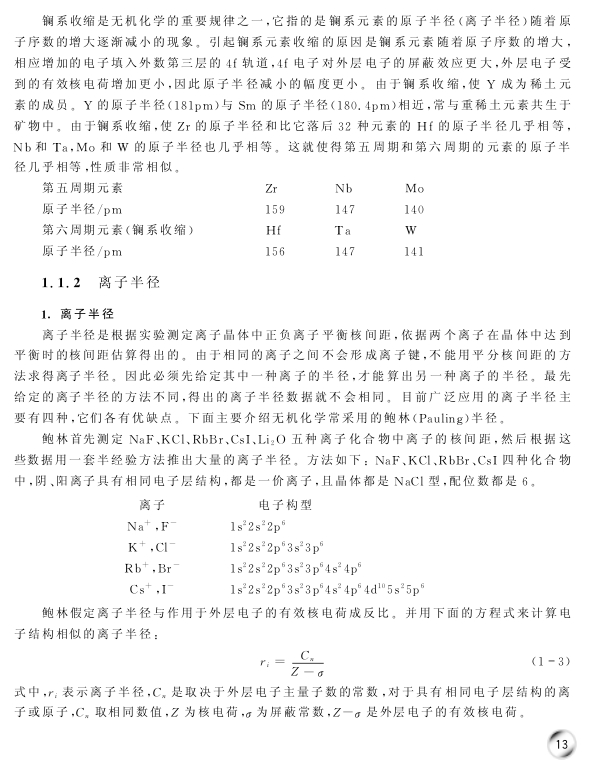table: (42, 181, 424, 257), (124, 498, 423, 595)
